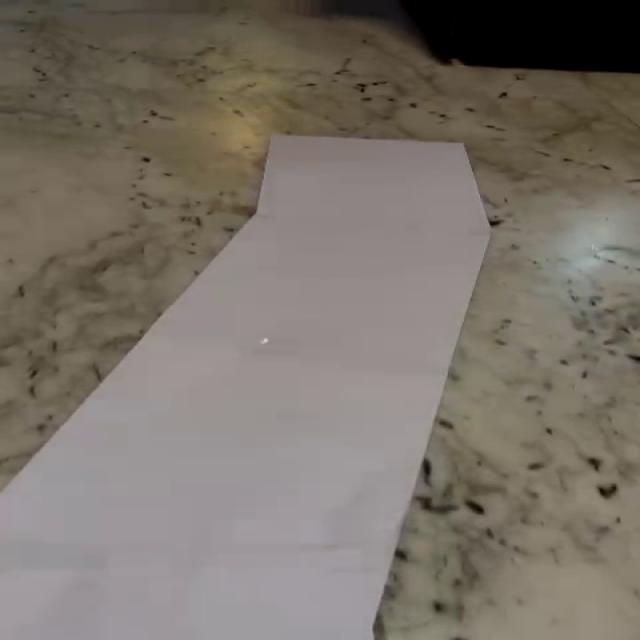road: (2, 135, 491, 640)
